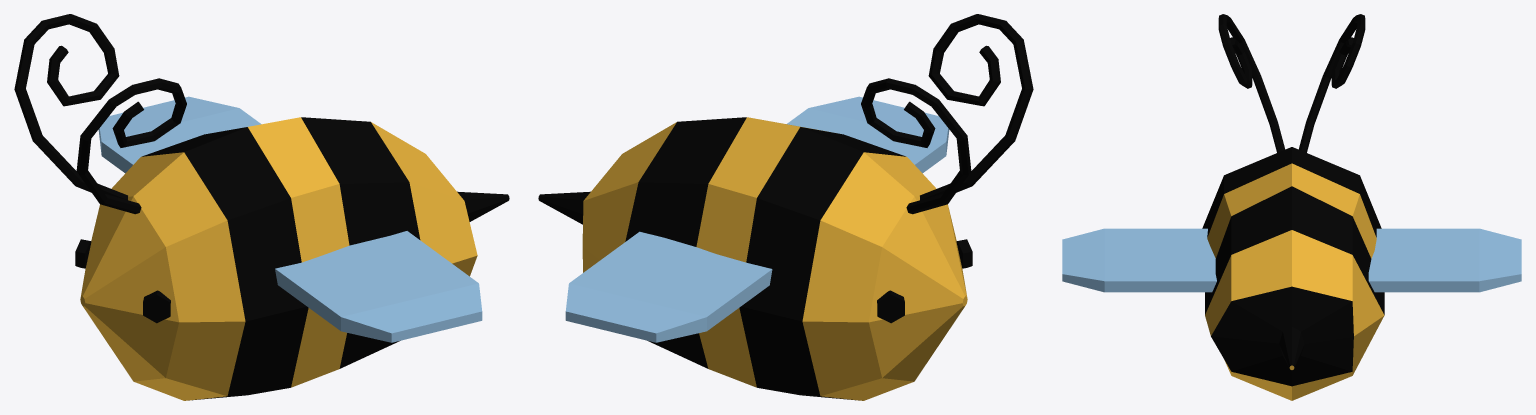
File: Bee.fbx
The picture shows the model from 3 angles, left to right: view 1: azimuth 30°, elevation 25°; view 2: azimuth 150°, elevation 25°; view 3: azimuth 270°, elevation 25°; orthographic projection. The views are drawn at different scales.
Visible parts, largest first — view 1: Cylinder.001, Cube.004, Vert, Cube.005, Cylinder.002; view 2: Cylinder.001, Cube.005, Vert, Cube.004, Cylinder.002; view 3: Cylinder.001, Cube.004, Cube.005, Vert.
Boxes of the visible parts, x1,y1,x2,y2 form: Cylinder.001: (80, 117, 509, 400); Cube.004: (275, 231, 482, 342); Vert: (14, 14, 186, 214); Cube.005: (98, 96, 261, 173); Cylinder.002: (75, 239, 170, 323); Cylinder.001: (538, 117, 967, 400); Cube.005: (565, 231, 772, 342); Vert: (861, 14, 1033, 214); Cube.004: (786, 96, 949, 173); Cylinder.002: (877, 239, 972, 323); Cylinder.001: (1202, 147, 1384, 400); Cube.004: (1062, 228, 1216, 292); Cube.005: (1368, 228, 1521, 292); Vert: (1218, 14, 1365, 152).
Size of the model in its own units: 1195 by 948 by 1322.
